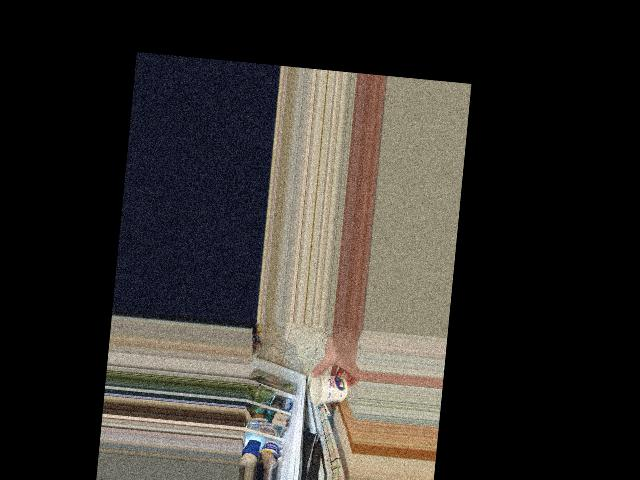cotage: (309, 372, 349, 406)
